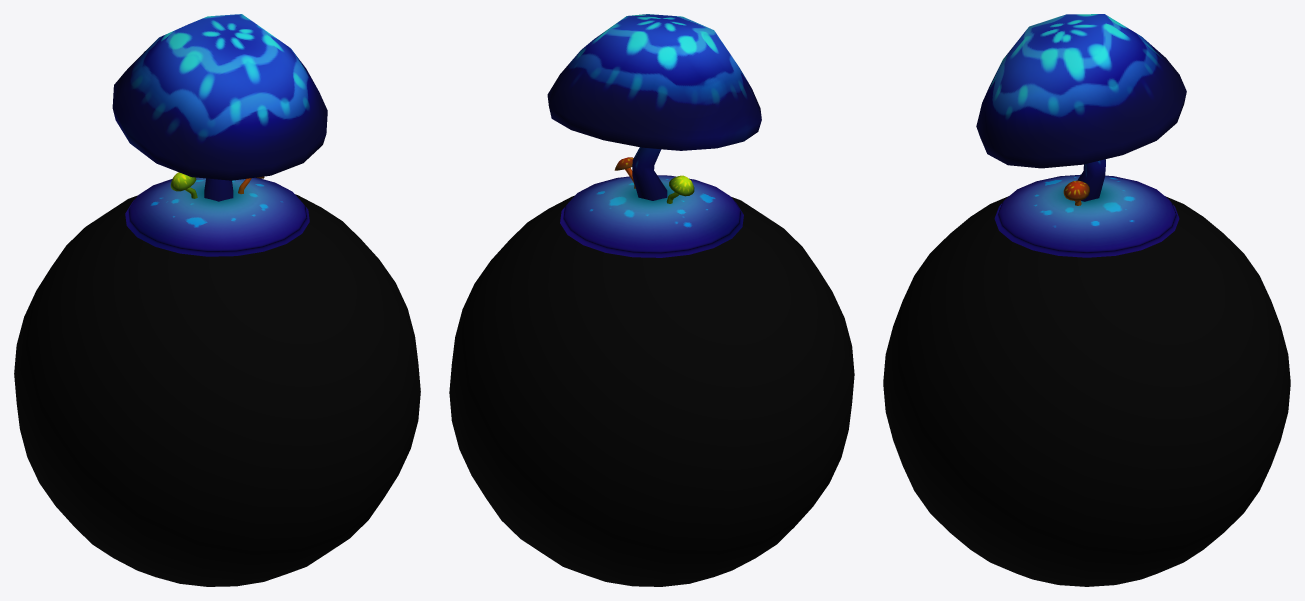
File: wakusei_mushroom.fbx
The picture shows the model from 3 angles, left to right: view 1: azimuth 30°, elevation 25°; view 2: azimuth 150°, elevation 25°; view 3: azimuth 270°, elevation 25°; orthographic projection.
Visible parts, largest first — view 1: polySurface1, pCube3, polySurface2, pCylinder3; view 2: polySurface1, pCube3, polySurface2, pCylinder3; view 3: polySurface1, pCube3, polySurface2, pCylinder3.
Boxes of the visible parts, x1,y1,x2,y2 form: polySurface1: [14, 194, 420, 586]; pCube3: [112, 14, 327, 180]; polySurface2: [125, 177, 309, 256]; pCylinder3: [204, 178, 233, 201]; polySurface1: [449, 195, 854, 586]; pCube3: [547, 14, 761, 150]; polySurface2: [560, 175, 743, 257]; pCylinder3: [632, 147, 667, 200]; polySurface1: [883, 196, 1290, 586]; pCube3: [976, 14, 1186, 168]; polySurface2: [994, 174, 1179, 257]; pCylinder3: [1077, 159, 1105, 201].
Bounding box in the file's own units: 12.49 × 18.36 × 12.49.
